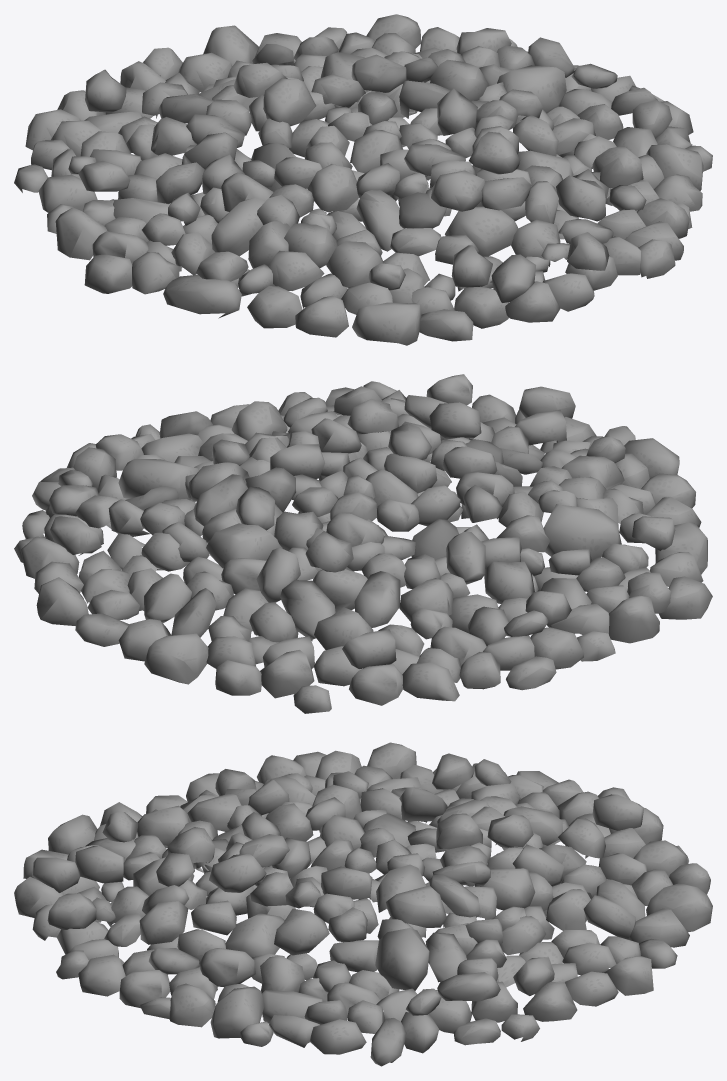
File: PebNest04.fbx
3 views of the same model, one above another, from view 1: azimuth 30°, elevation 25°; view 2: azimuth 150°, elevation 25°; view 3: azimuth 270°, elevation 25° (orthographic). The views are drawn at different scales.
Visible parts, largest first — view 1: PebNest04; view 2: PebNest04; view 3: PebNest04.
Part boxes in pixels (bbox=[...]): PebNest04: bbox=[14, 14, 712, 345]; PebNest04: bbox=[14, 374, 712, 713]; PebNest04: bbox=[14, 742, 712, 1066].
Bounding box in the file's own units: 0.8933 × 0.1362 × 0.9052.
